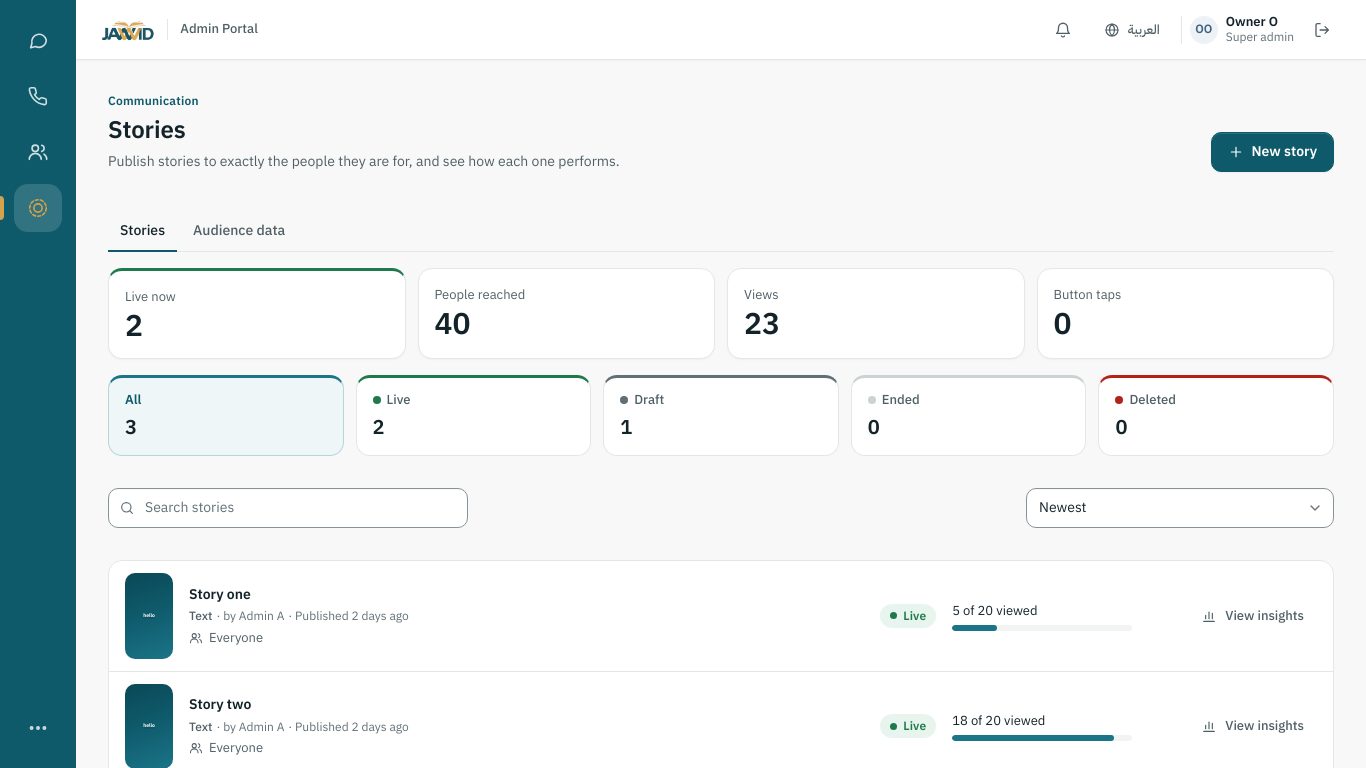
Test: Stories › filters by status through links that keep the filter in the URL
Check: the link "Story one" is shown, box [189,584,251,605]
Check: the link "Deleted 0" is shown, box [1098,375,1334,456]
Click the link "Draft 1" at (721, 416), box [603,375,839,456]
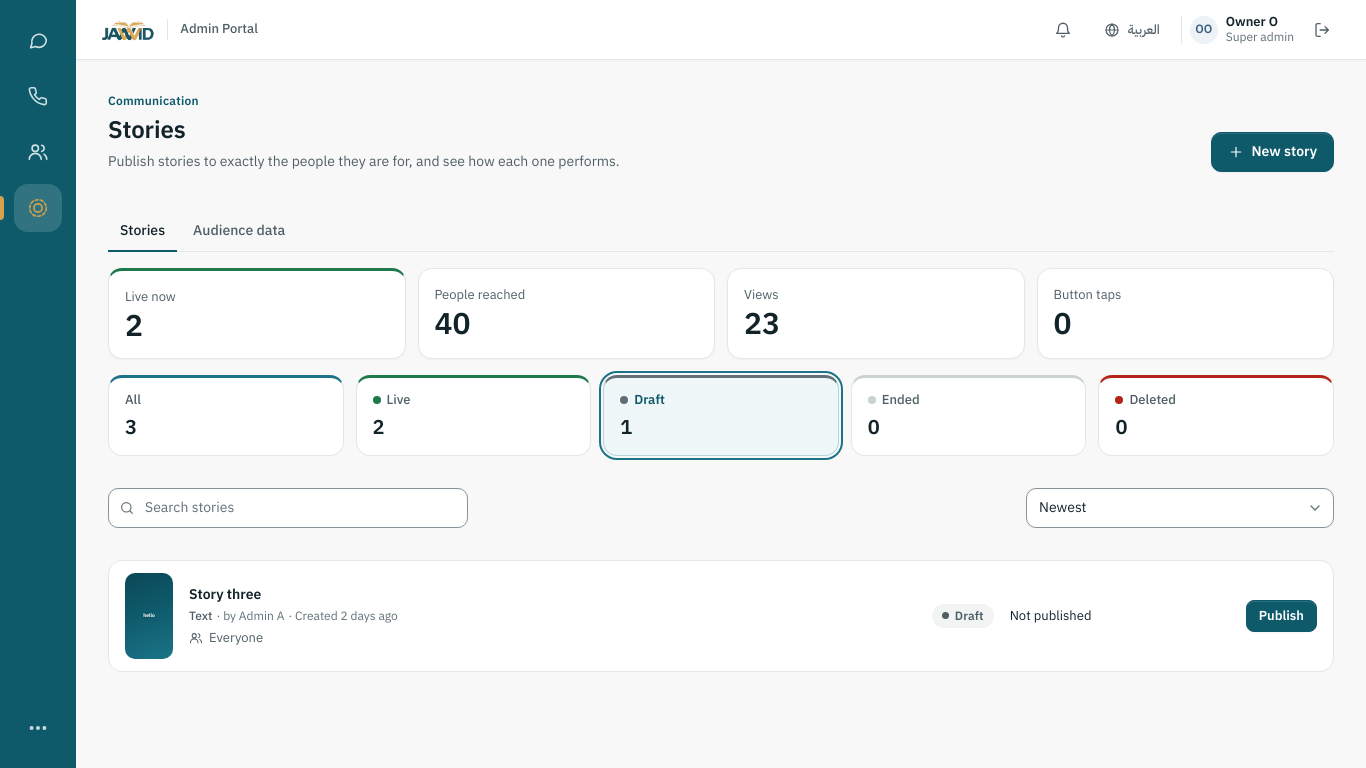
Check: the button "Publish" is shown, box [1246,600,1317,632]
Check: the link "Story three" is shown, box [189,584,261,605]
Check: the link "Story one" is gone
